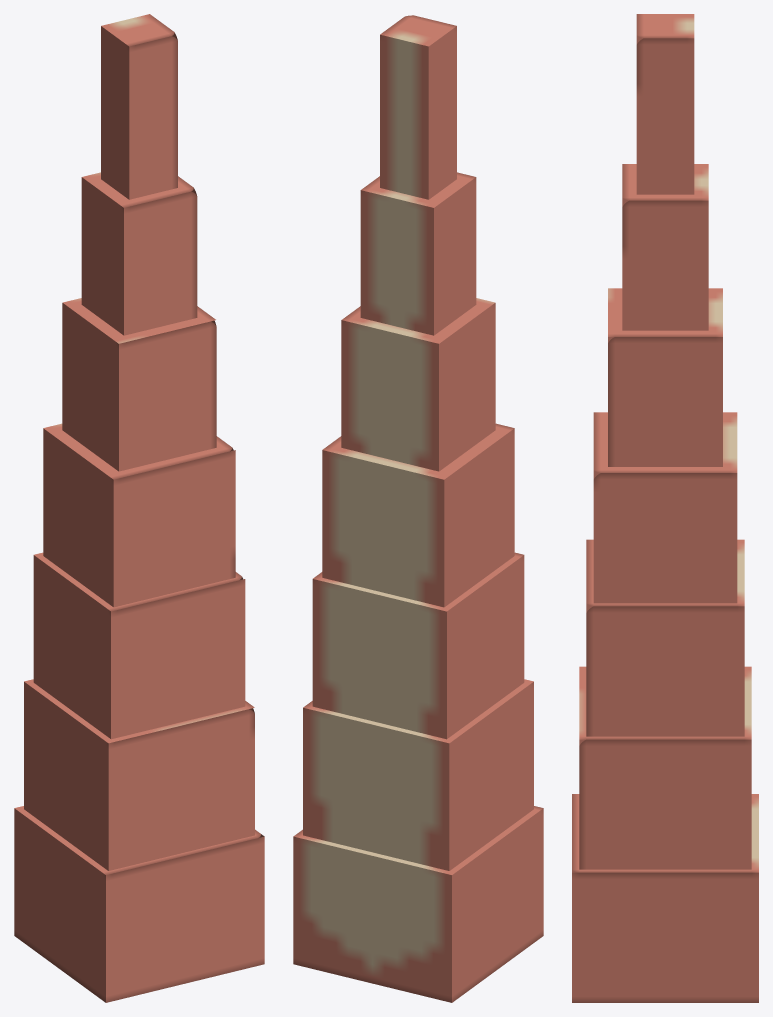
File: Tentacle.fbx
3 renders of one model, left to right at view 1: azimuth 30°, elevation 25°; view 2: azimuth 150°, elevation 25°; view 3: azimuth 270°, elevation 25°, orthographic.
Parts seen in each view (by area): view 1: segment, segment2, segment3, segment4, segment5, segment6, segment7; view 2: segment, segment2, segment3, segment4, segment5, segment6, segment7; view 3: segment, segment2, segment3, segment4, segment5, segment6, segment7.
Part boxes in pixels (x1,y1,x2,y2): segment: (14, 806, 264, 1002); segment2: (24, 679, 254, 870); segment3: (33, 552, 245, 739); segment4: (43, 423, 235, 607); segment5: (62, 298, 216, 471); segment6: (81, 172, 197, 335); segment7: (101, 14, 177, 199); segment: (293, 806, 543, 1002); segment2: (303, 679, 533, 870); segment3: (312, 552, 524, 739); segment4: (322, 423, 514, 607); segment5: (341, 298, 495, 471); segment6: (360, 172, 476, 335); segment7: (380, 15, 456, 199); segment: (572, 794, 758, 1002); segment2: (579, 666, 751, 869); segment3: (586, 539, 744, 736); segment4: (593, 412, 737, 603); segment5: (608, 288, 722, 466); segment6: (622, 164, 708, 330); segment7: (636, 14, 694, 194).
Size of the model in its own units: 81.25 by 450 by 81.25.
1 material, 1 textured.
